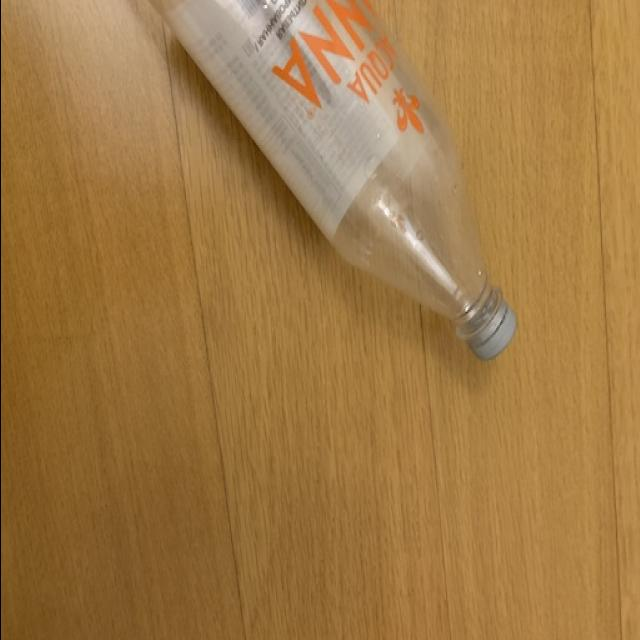PET: (147, 1, 522, 392)
